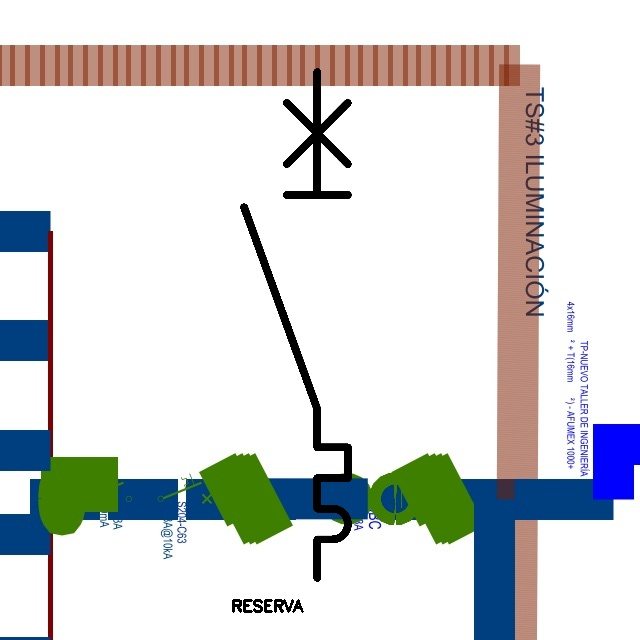interruptor_termomagnetico: (231, 59, 361, 591)
